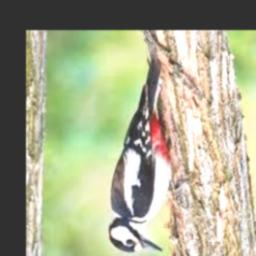Woodpecker: (108, 56, 172, 252)
